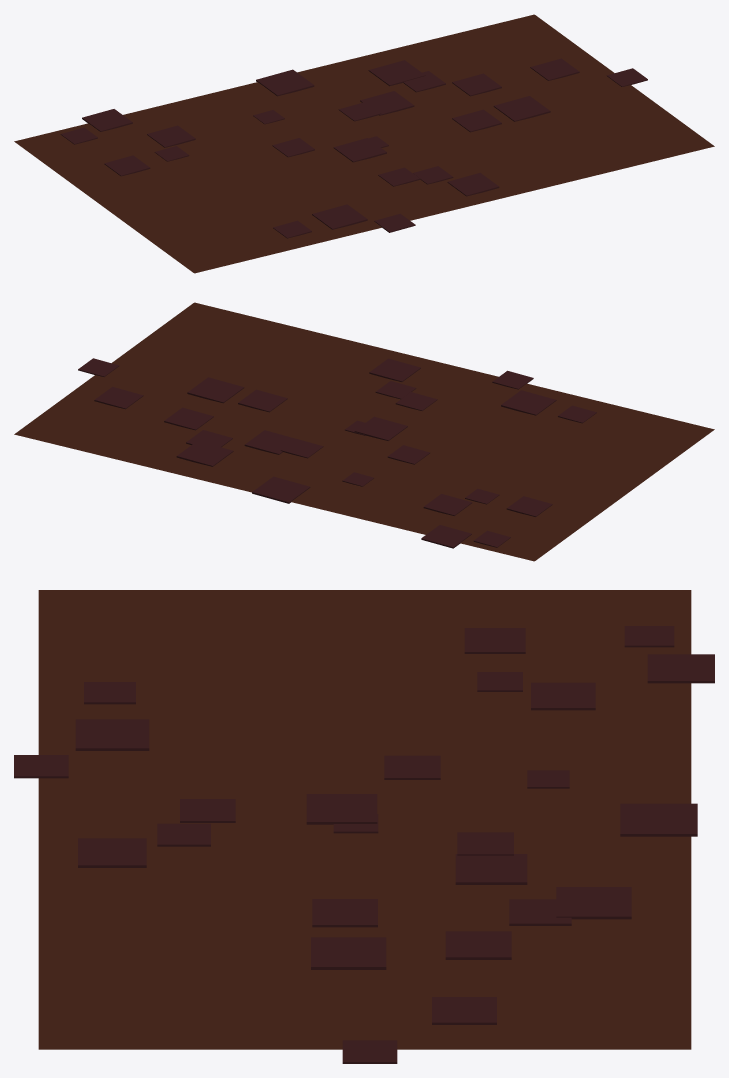
File: Floor.fbx
3 renders of one model, top to bottom at view 1: azimuth 30°, elevation 25°; view 2: azimuth 150°, elevation 25°; view 3: azimuth 270°, elevation 25°, orthographic. The views are drawn at different scales.
Parts seen in each view (by area): view 1: FloorTile|Cube.005|Dupli|24; view 2: FloorTile|Cube.005|Dupli|24; view 3: FloorTile|Cube.005|Dupli|24.
Part boxes in pixels (bbox=[...]): FloorTile|Cube.005|Dupli|24: bbox=[14, 14, 714, 273]; FloorTile|Cube.005|Dupli|24: bbox=[14, 302, 714, 561]; FloorTile|Cube.005|Dupli|24: bbox=[14, 590, 714, 1063].
Bounding box in the file's own units: 1033 × 5.19 × 645.
